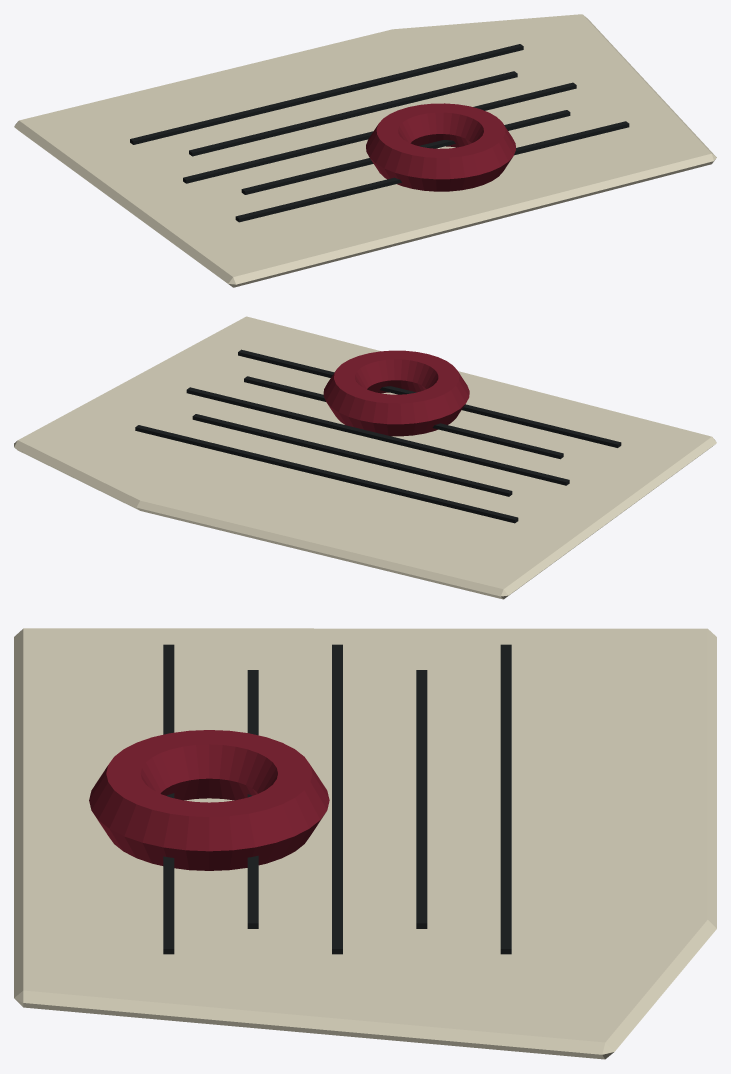
File: PROP_open_letter.glb
The picture shows the model from 3 angles, top to bottom: view 1: azimuth 30°, elevation 25°; view 2: azimuth 150°, elevation 25°; view 3: azimuth 270°, elevation 25°; orthographic projection. The views are drawn at different scales.
Parts seen in each view (by area): view 1: PROP_open_letter__paper, PROP_open_letter__coal, PROP_open_letter__ruby; view 2: PROP_open_letter__paper, PROP_open_letter__coal, PROP_open_letter__ruby; view 3: PROP_open_letter__paper, PROP_open_letter__ruby, PROP_open_letter__coal.
Part boxes in pixels (x1,y1,x2,y2): PROP_open_letter__paper: (14, 14, 716, 287); PROP_open_letter__coal: (130, 44, 629, 222); PROP_open_letter__ruby: (366, 103, 515, 191); PROP_open_letter__paper: (14, 316, 716, 599); PROP_open_letter__coal: (135, 349, 621, 523); PROP_open_letter__ruby: (323, 350, 469, 436); PROP_open_letter__paper: (14, 628, 716, 1059); PROP_open_letter__ruby: (89, 730, 329, 870); PROP_open_letter__coal: (163, 644, 511, 954).
Size of the model in its own units: 0.639 by 0.0561 by 0.45.
